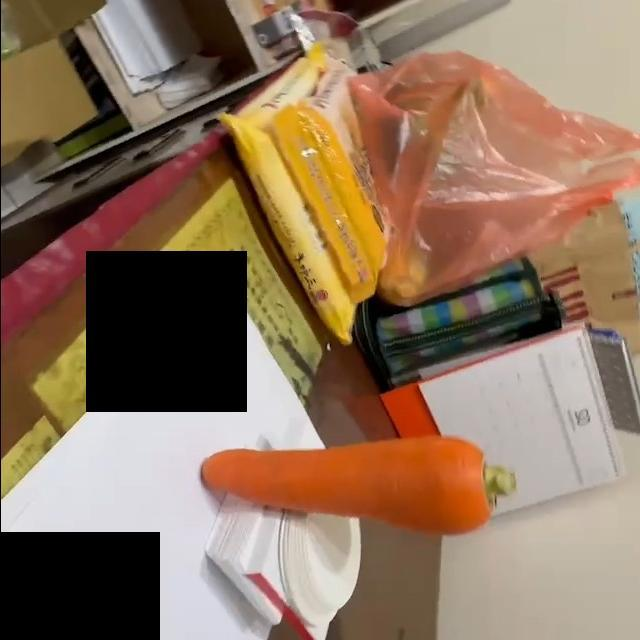carrot: (198, 434, 512, 541)
